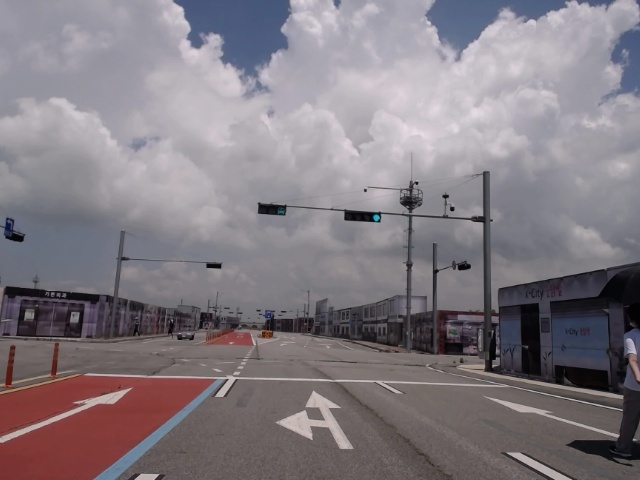straight_green_4: (345, 211, 381, 223)
